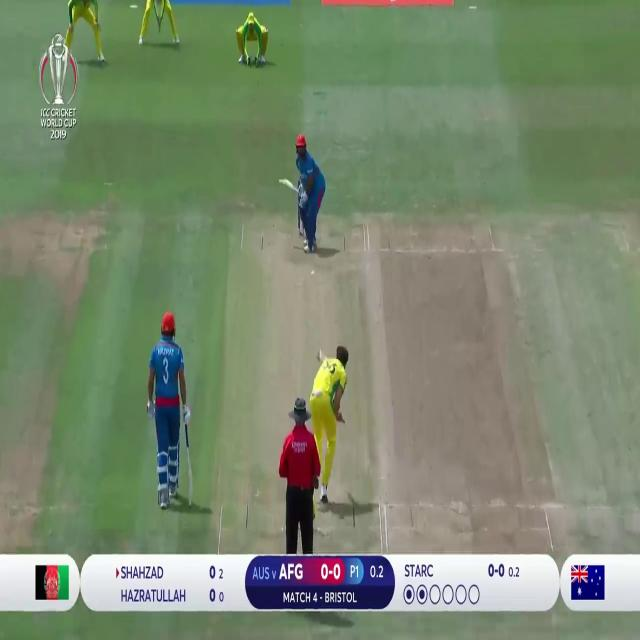ball: (310, 266, 317, 276)
